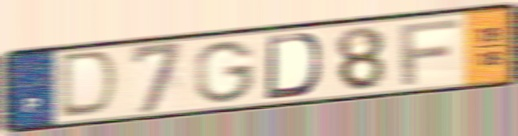7: (128, 38, 186, 117)
8: (334, 25, 388, 92)
D: (55, 48, 123, 121), (261, 31, 324, 102)
F: (396, 16, 462, 87)
G: (192, 39, 259, 106)
